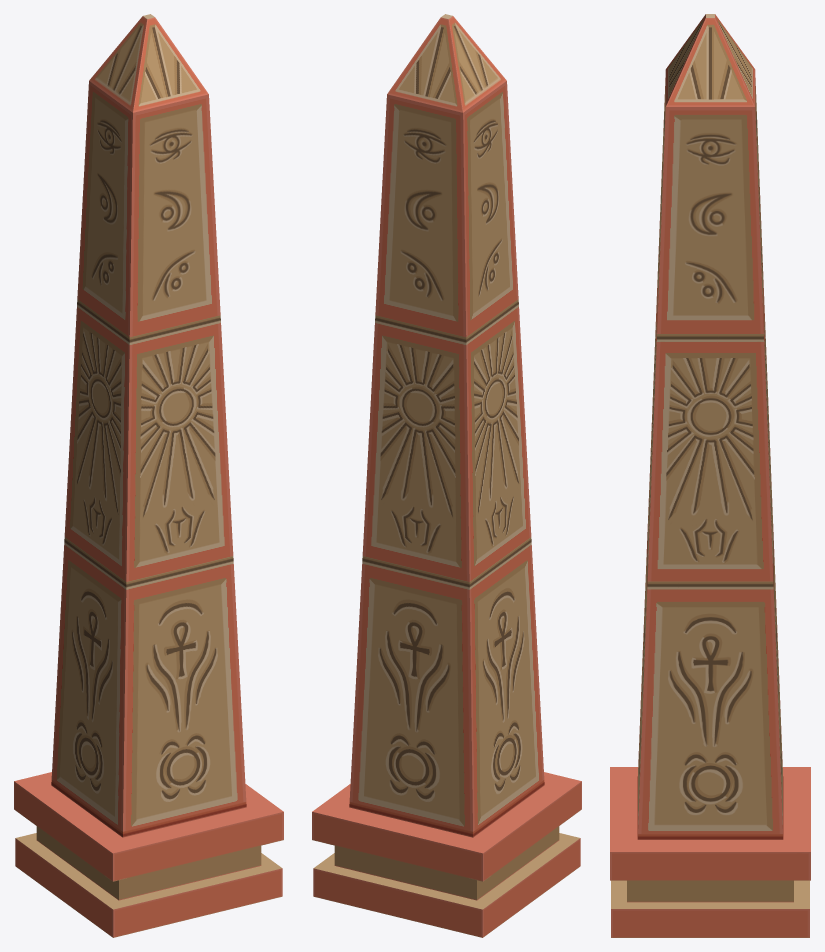
File: GreatObelisk.FBX
3 views of the same model, side by side, from view 1: azimuth 30°, elevation 25°; view 2: azimuth 150°, elevation 25°; view 3: azimuth 270°, elevation 25° (orthographic).
Parts seen in each view (by area): view 1: GreatObelisk; view 2: GreatObelisk; view 3: GreatObelisk.
Boxes of the visible parts, x1,y1,x2,y2 form: GreatObelisk: (14,14,283,937); GreatObelisk: (312,14,581,937); GreatObelisk: (610,14,810,937).
Bounding box in the file's own units: 2.52 × 12.2 × 2.52.
